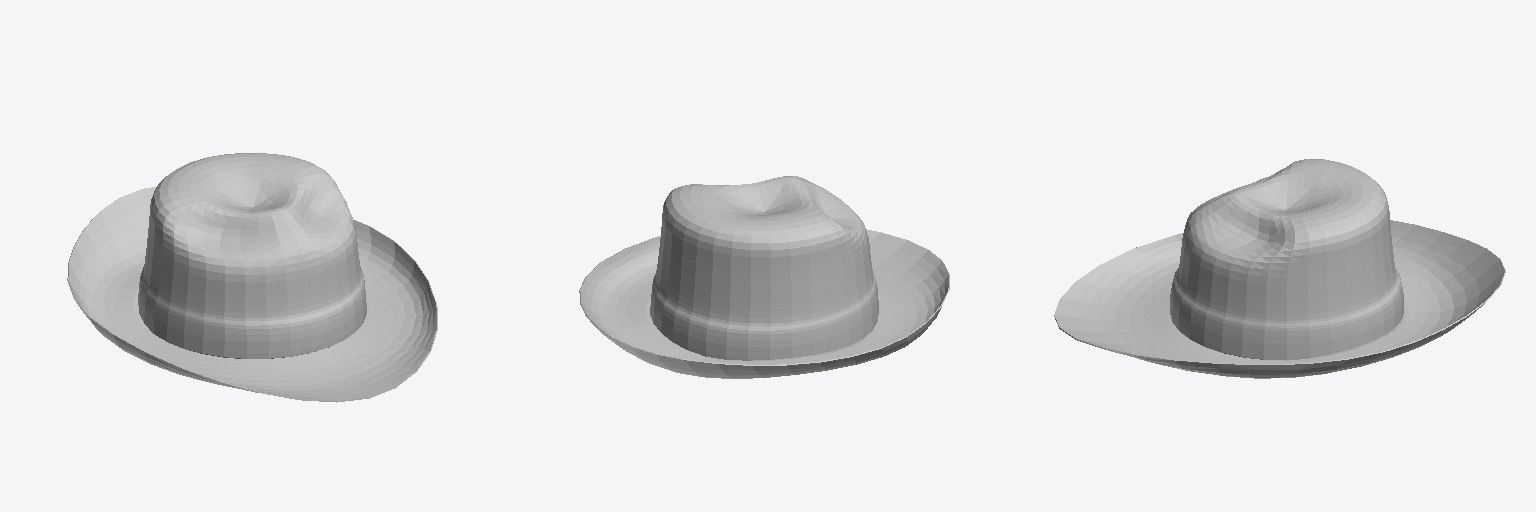
Rendered from Beta-Tester-Hat.obj.
3 views of the same model, side by side, from view 1: azimuth 30°, elevation 25°; view 2: azimuth 150°, elevation 25°; view 3: azimuth 270°, elevation 25° (orthographic).
Parts seen in each view (by area): view 1: Fedora_Cylinder.001_Cylinder.002; view 2: Fedora_Cylinder.001_Cylinder.002; view 3: Fedora_Cylinder.001_Cylinder.002.
Boxes of the visible parts, <box> form: Fedora_Cylinder.001_Cylinder.002: <box>67,153,437,402</box>; Fedora_Cylinder.001_Cylinder.002: <box>579,176,949,378</box>; Fedora_Cylinder.001_Cylinder.002: <box>1054,159,1505,378</box>.
Size of the model in its own units: 1.82 by 0.7343 by 2.32.